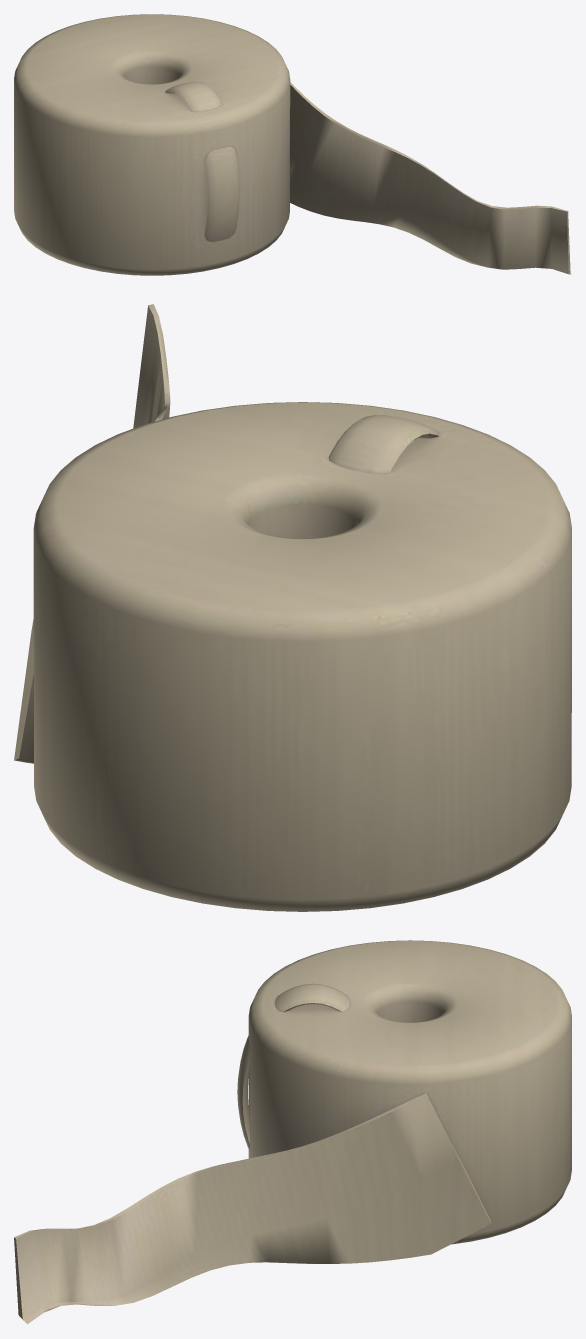
Rendered from bandage.glb.
3 renders of one model, top to bottom at view 1: azimuth 30°, elevation 25°; view 2: azimuth 150°, elevation 25°; view 3: azimuth 270°, elevation 25°, orthographic. The views are drawn at different scales.
Visible parts, largest first — view 1: bandage; view 2: bandage; view 3: bandage.
Part boxes in pixels (box(x1,y1,x2,y2)): bandage: box(14, 14, 571, 275); bandage: box(14, 304, 571, 911); bandage: box(14, 940, 571, 1324).
Bounding box in the file's own units: 0.107 × 0.0478 × 0.1175.
Materials: 1 (1 with a texture image).
